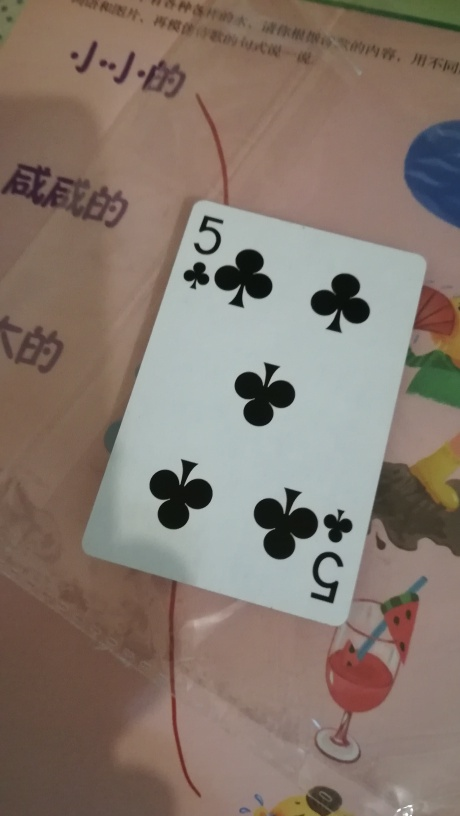mh 5: (80, 198, 425, 630)
